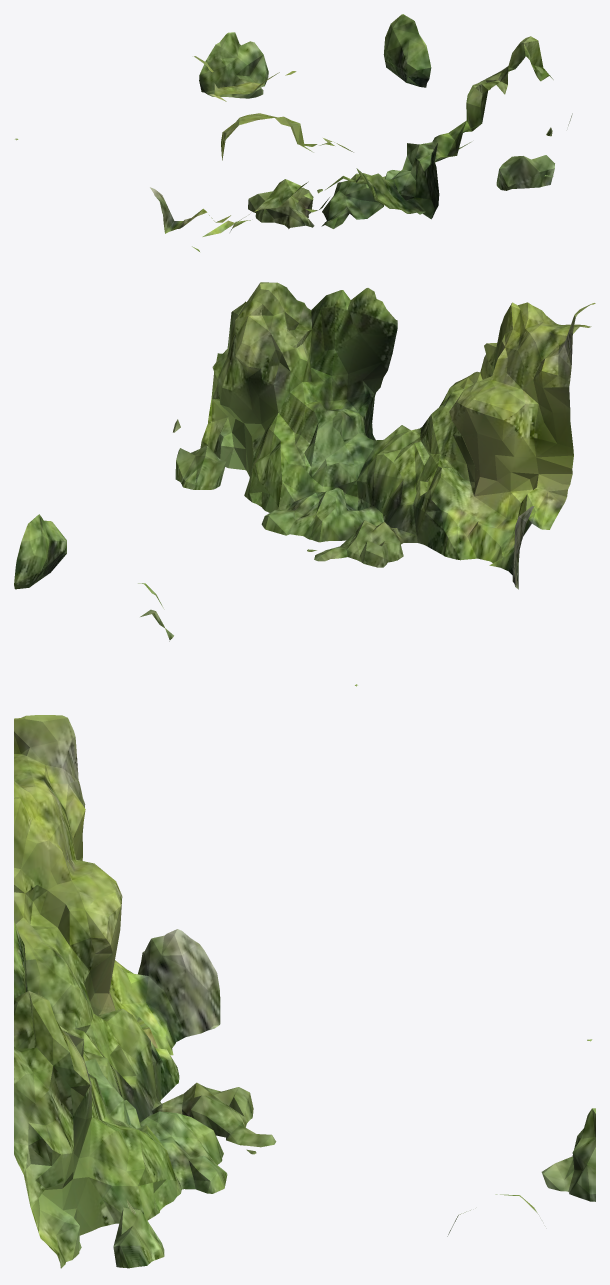
The picture shows the model from 3 angles, top to bottom: view 1: azimuth 30°, elevation 25°; view 2: azimuth 150°, elevation 25°; view 3: azimuth 270°, elevation 25°; orthographic projection. The views are drawn at different scales.
Bounding box in the file's own units: 26.11 × 15.34 × 26.11.
2 materials, 2 textured.
